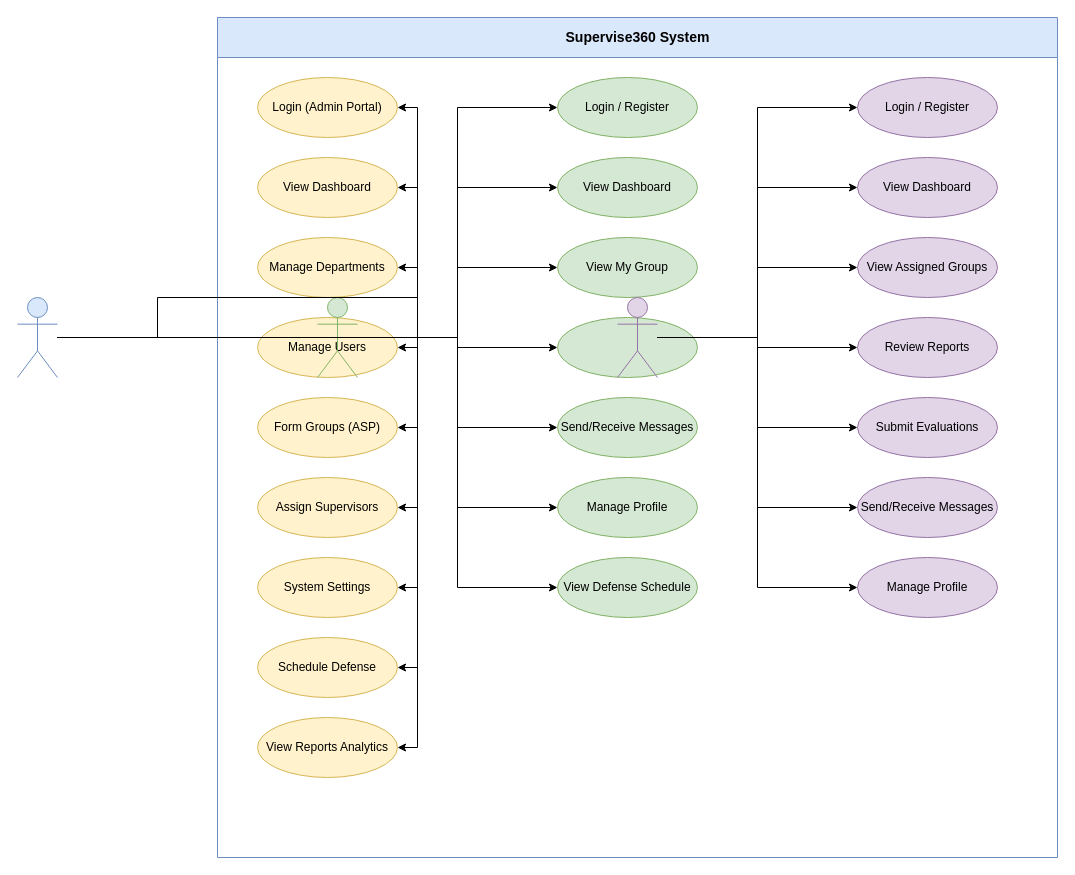
This 1075x875 diagram has some shape labels left out. The shapes that lost their labels are listed below. From the top down, each one's box as (x1, y1, x2, y2) in pixels, then its label:
(16, 296, 58, 378): Admin
(316, 296, 358, 378): Student
(556, 316, 698, 378): Upload Reports
(616, 296, 658, 378): Supervisor
